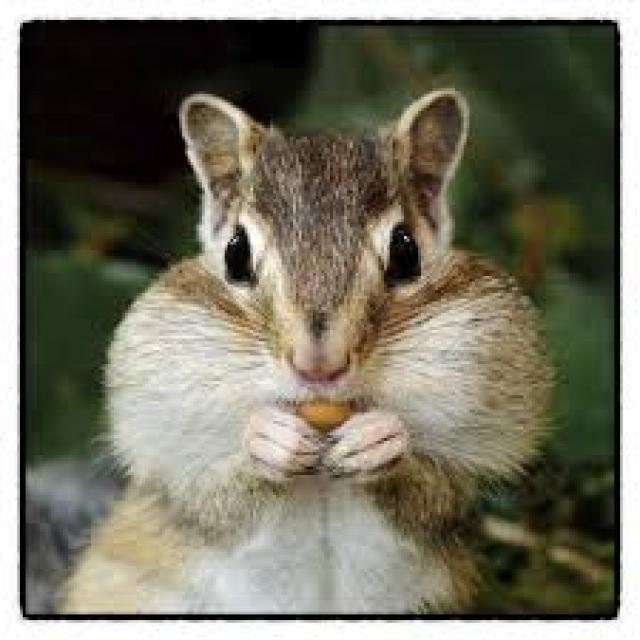squirrel: (49, 86, 558, 614)
